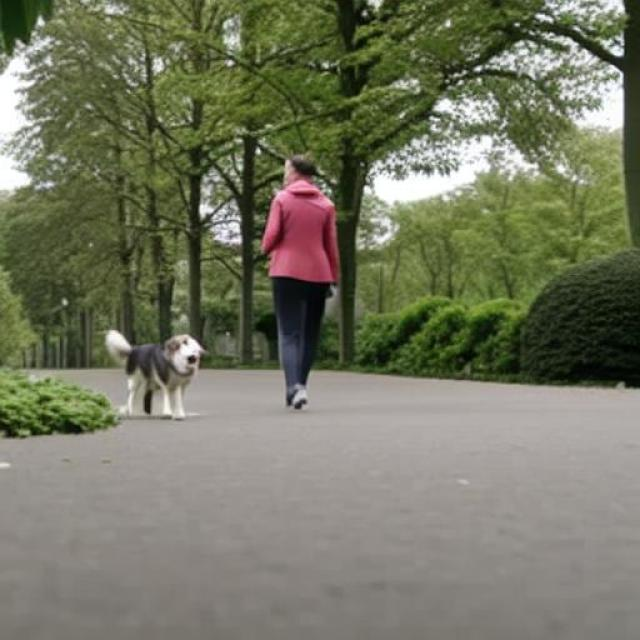Unleashed_Dog: (104, 283, 330, 421)
